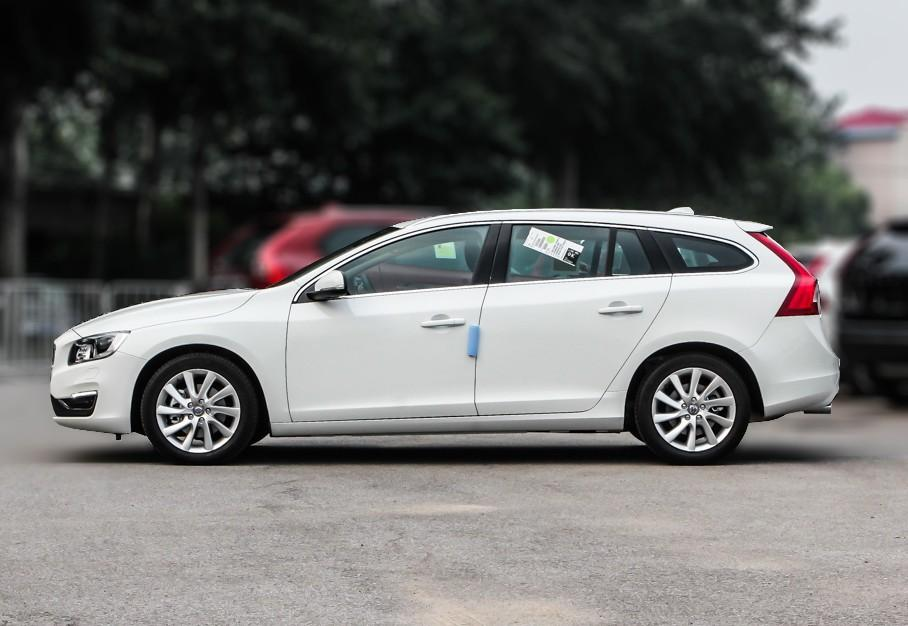Wagon: (49, 205, 839, 466)
